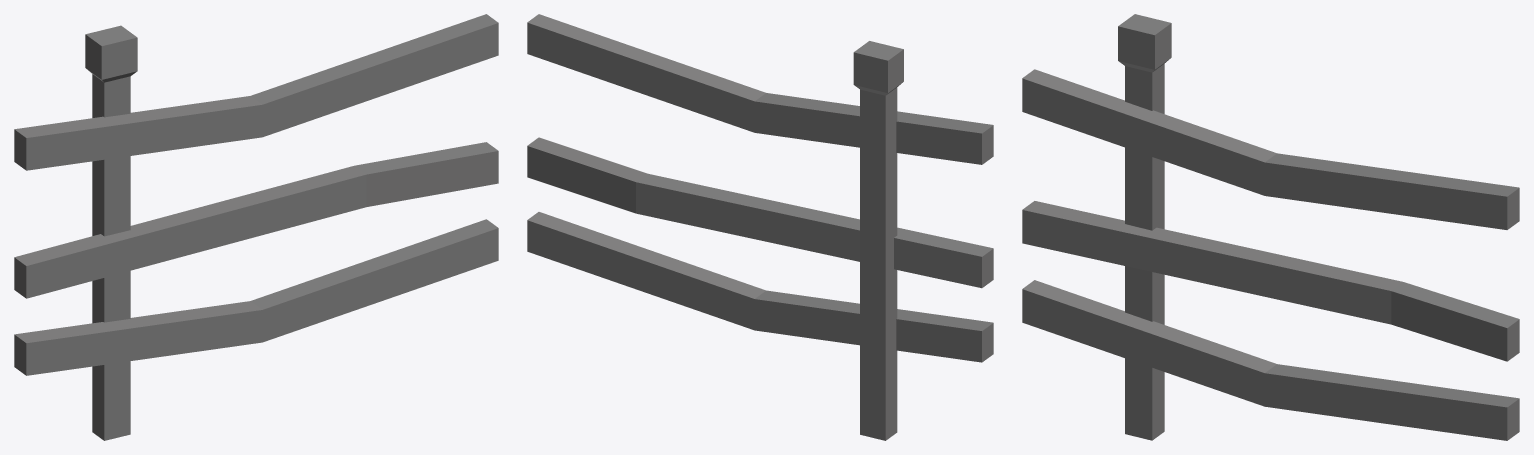
The model's file is fence_2.fbx.
The picture shows the model from 3 angles, left to right: view 1: azimuth 30°, elevation 25°; view 2: azimuth 150°, elevation 25°; view 3: azimuth 330°, elevation 25°; orthographic projection. The views are drawn at different scales.
Parts seen in each view (by area): view 1: fence_2; view 2: fence_2; view 3: fence_2.
Part boxes in pixels (x1,y1,x2,y2): fence_2: [14, 14, 498, 440]; fence_2: [527, 14, 993, 440]; fence_2: [1022, 14, 1519, 440].
Size of the model in its own units: 41.68 by 33.51 by 3.88.
